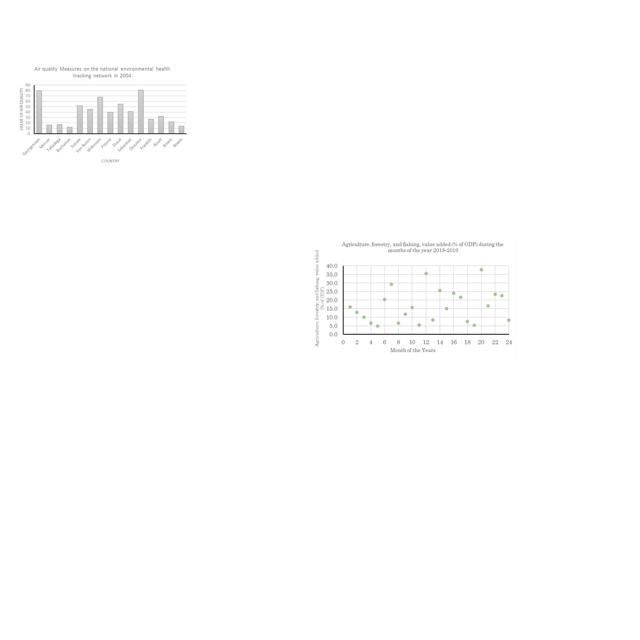Graph: (309, 237, 516, 357), (15, 63, 189, 166)
